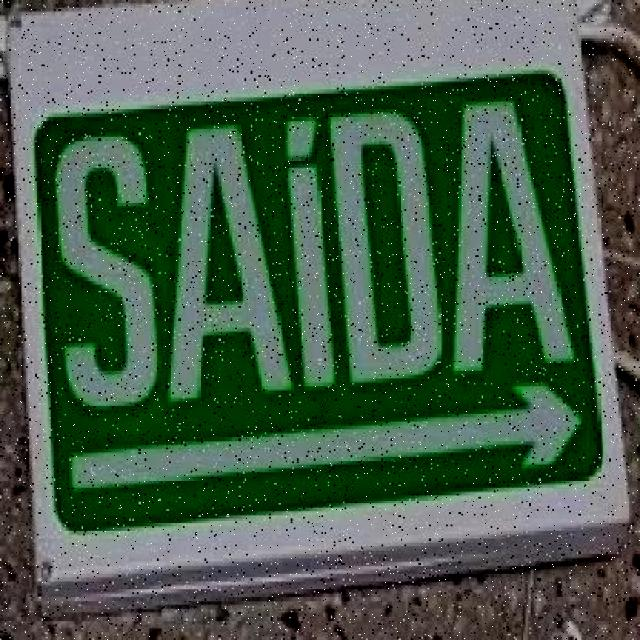emergency_exit: (5, 2, 632, 609)
